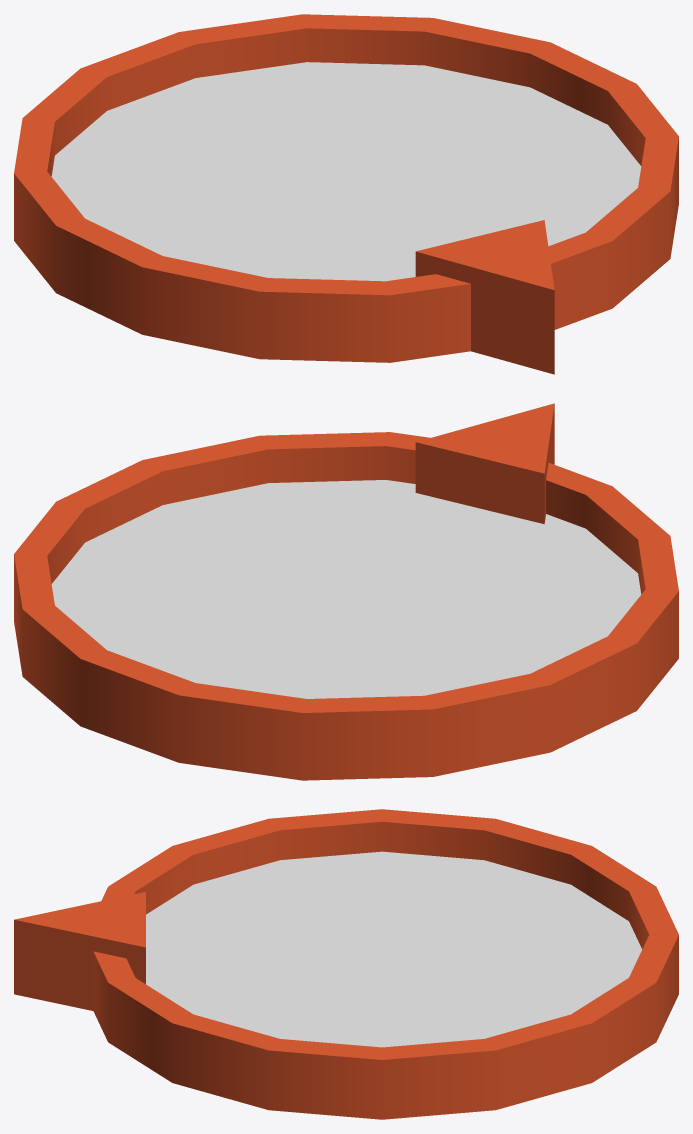
Rendered from placeholder_token.fbx.
3 views of the same model, one above another, from view 1: azimuth 30°, elevation 25°; view 2: azimuth 150°, elevation 25°; view 3: azimuth 270°, elevation 25° (orthographic). The views are drawn at different scales.
Visible parts, largest first — view 1: token; view 2: token; view 3: token.
Boxes of the visible parts, x1,y1,x2,y2 form: token: [14, 14, 678, 374]; token: [14, 403, 678, 780]; token: [14, 809, 678, 1119].
Size of the model in its own units: 180 by 25 by 202.
